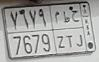7: (10, 10, 22, 56)
J: (72, 10, 84, 48)
